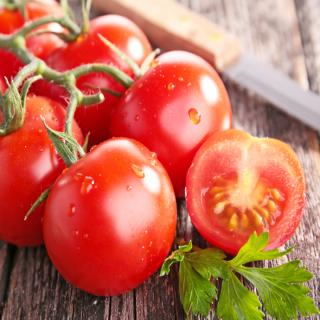Tomat: (42, 136, 179, 297), (109, 50, 234, 199)
